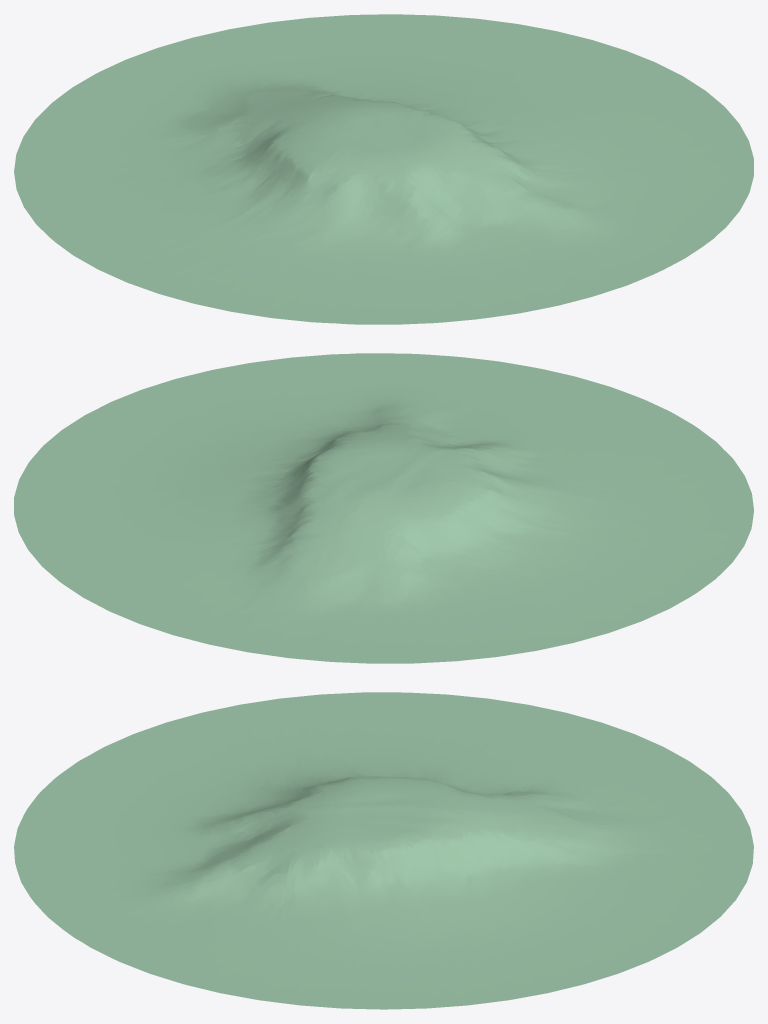
Rendered from island_coral_medium_J.fbx.
The picture shows the model from 3 angles, top to bottom: view 1: azimuth 30°, elevation 25°; view 2: azimuth 150°, elevation 25°; view 3: azimuth 270°, elevation 25°; orthographic projection.
Visible parts, largest first — view 1: island_coral_medium_J; view 2: island_coral_medium_J; view 3: island_coral_medium_J.
Boxes of the visible parts, box(x1,y1,x2,y2) form: island_coral_medium_J: box(14, 14, 753, 324); island_coral_medium_J: box(14, 353, 753, 663); island_coral_medium_J: box(14, 692, 753, 1009).
Size of the model in its own units: 10001 by 544 by 9862.
